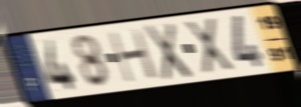4: (231, 12, 267, 71), (44, 36, 78, 93)
8: (72, 33, 111, 90)
H: (106, 27, 161, 85)
X: (181, 16, 237, 77), (142, 20, 195, 83)
